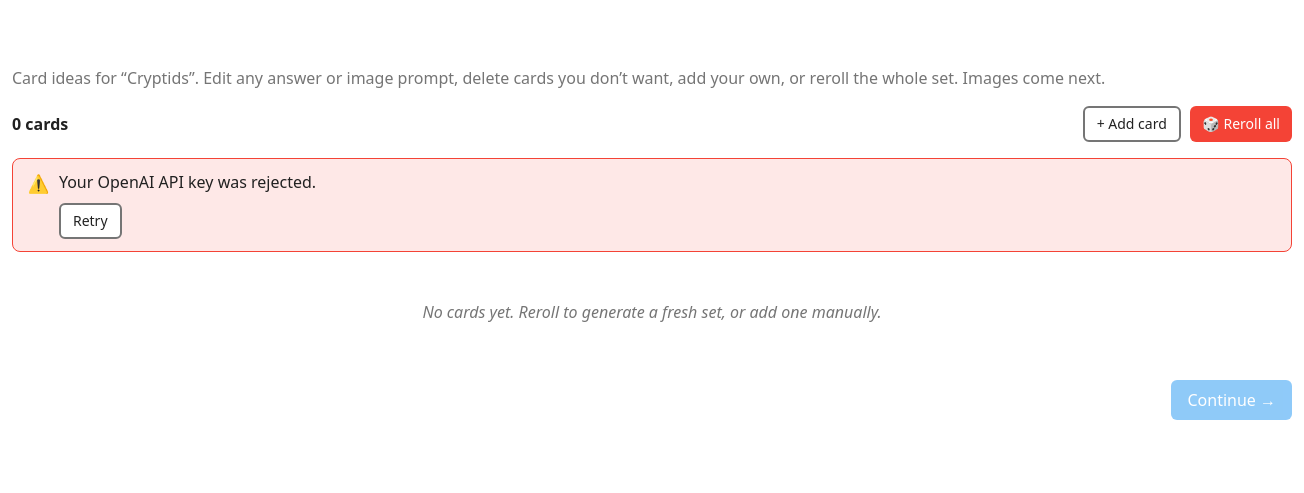
CardsStep › surfaces a typed GenerationError with a working Retry
Expected: the message "⚠️ Your OpenAI API key was rejected. Retry" is shown, [12,158,1292,252]
Click the button "Retry".
click(90, 221)  # box [59,203,122,239]
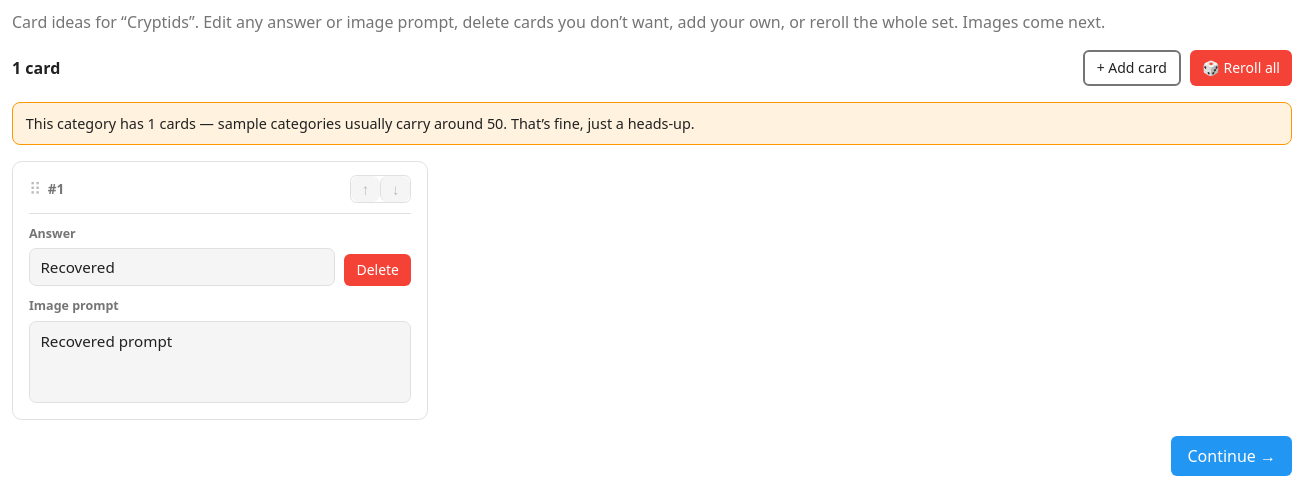
Expected: the field showing "Recovered" is shown, [29,248,335,286]
